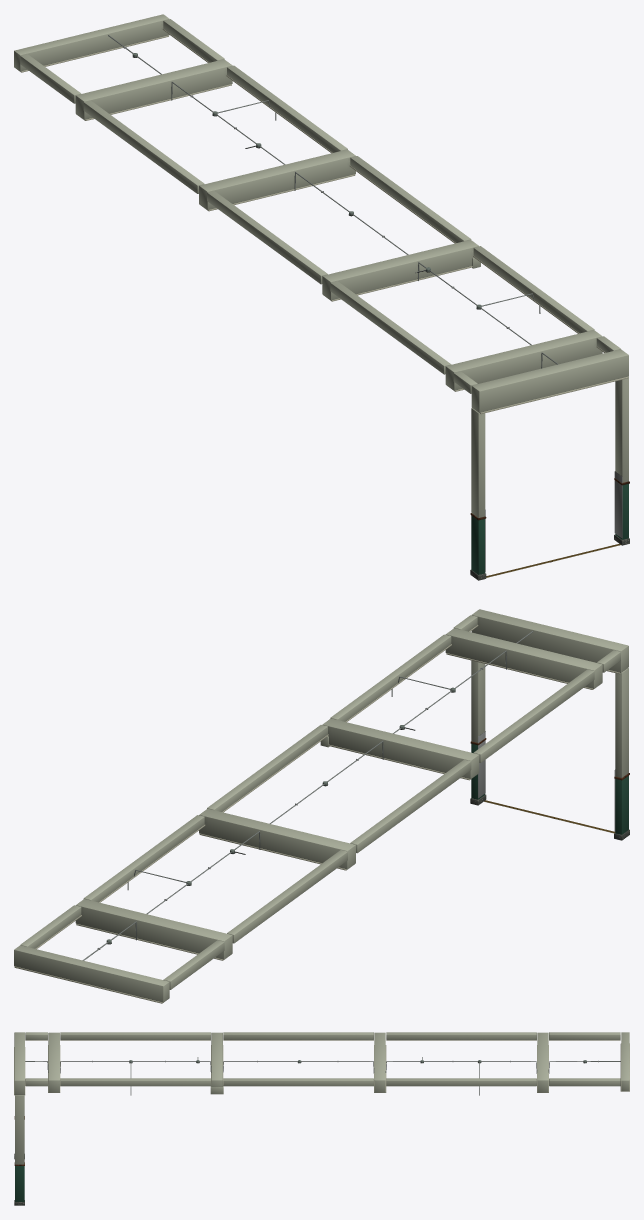
File: CTCC_HALL_CorridorBeams.fbx
3 views of the same model, one above another, from view 1: azimuth 30°, elevation 25°; view 2: azimuth 150°, elevation 25°; view 3: azimuth 270°, elevation 25° (orthographic). The views are drawn at different scales.
Parts seen in each view (by area): view 1: CTCC_HALL_CorridorBeams; view 2: CTCC_HALL_CorridorBeams; view 3: CTCC_HALL_CorridorBeams.
Part boxes in pixels (<box>): CTCC_HALL_CorridorBeams: <box>14,14,629,580</box>; CTCC_HALL_CorridorBeams: <box>14,609,629,1003</box>; CTCC_HALL_CorridorBeams: <box>14,1032,629,1205</box>.
Bounding box in the file's own units: 3.02 × 3.6 × 16.07.
